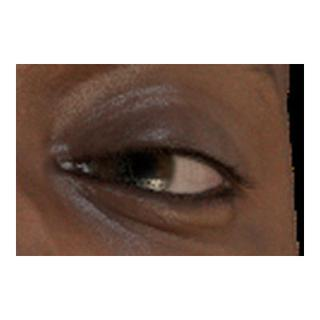pupil: (119, 150, 151, 182)
